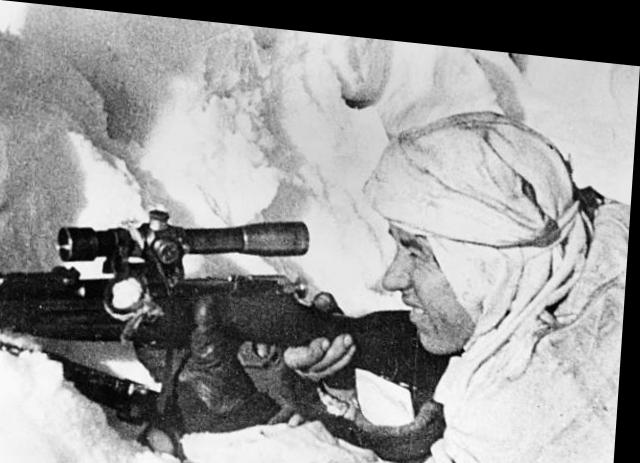other: (332, 93, 600, 462)
